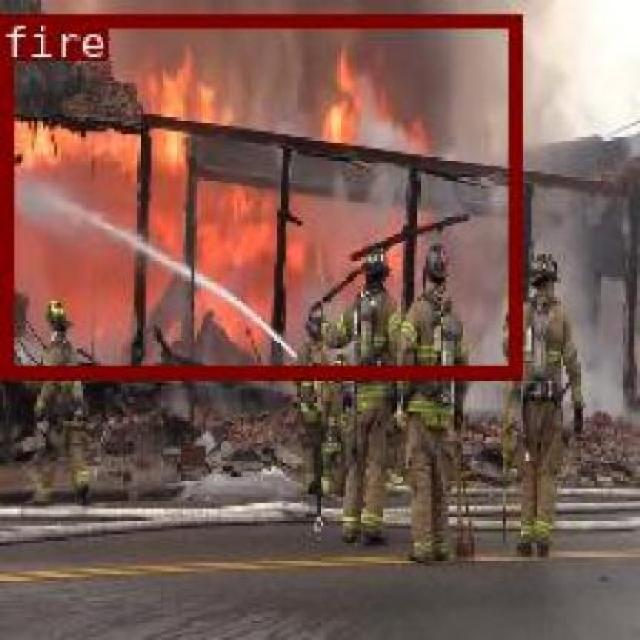Fire: (258, 194, 517, 363)
